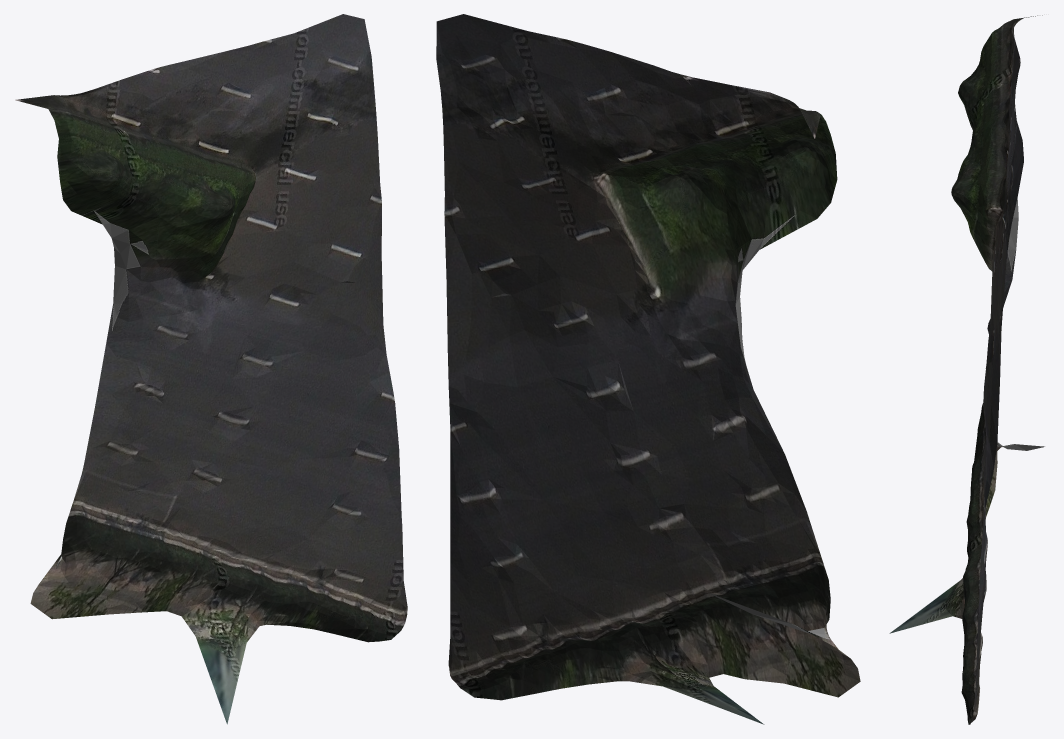
Rendered from Tile_+003_+001.obj.
The picture shows the model from 3 angles, left to right: view 1: azimuth 30°, elevation 25°; view 2: azimuth 150°, elevation 25°; view 3: azimuth 270°, elevation 25°; orthographic projection. The views are drawn at different scales.
Bounding box in the file's own units: 23.12 × 37.18 × 9.35.
Materials: 1 (1 with a texture image).
